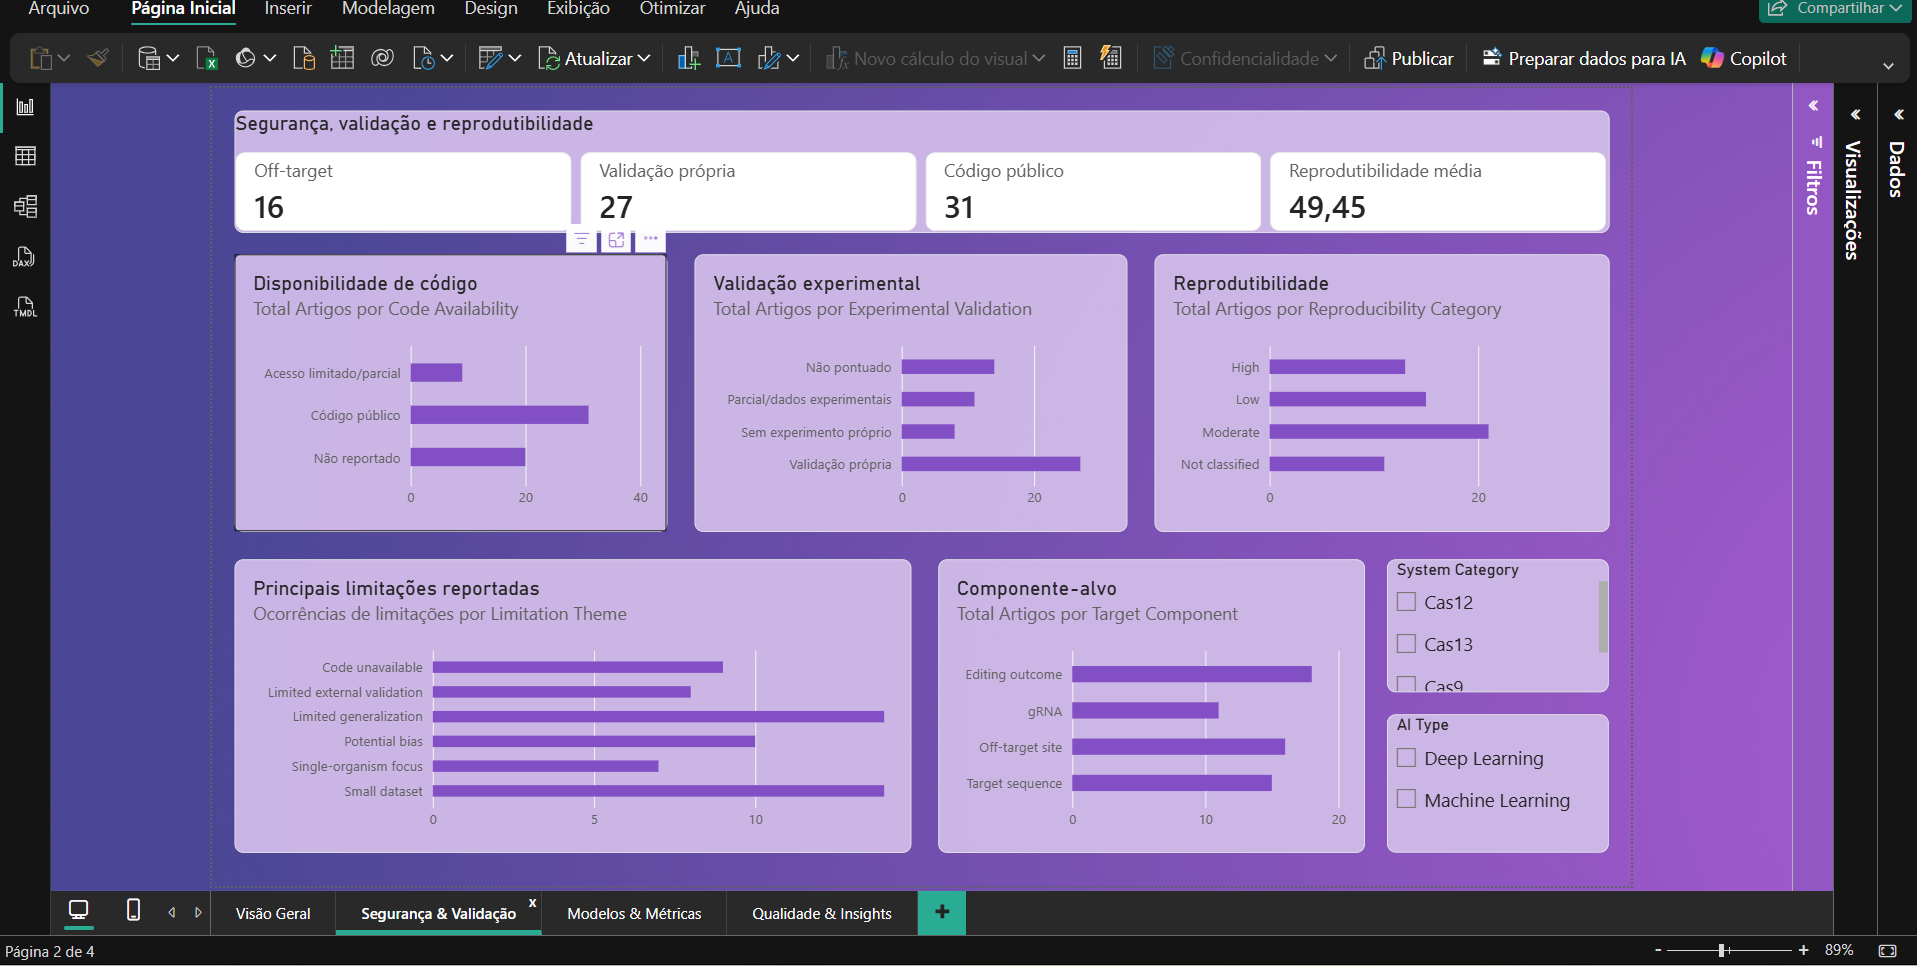

The page's visual inventory and layout, read from the dashboard file:
{"tool":"powerbi","page":{"name":"Segurança & Validação","canvas":[1280,720],"ordinal":1},"visuals":[{"type":"cardVisual","title":"Segurança, validação e reprodutibilidade","fields":{"Data":["Articles.Off-target","Articles.Validação própria","Articles.Código público","Articles.Reprodutibilidade média"]},"box":[20,20,1240,110],"z":1000},{"type":"clusteredBarChart","title":"Disponibilidade de código","fields":{"Category":["Articles.Code Availability"],"Y":["Articles.Total Artigos"]},"box":[20,150,390,250],"z":2000},{"type":"clusteredBarChart","title":"Validação experimental","fields":{"Category":["Articles.Experimental Validation"],"Y":["Articles.Total Artigos"]},"box":[435,150,390,250],"z":3000},{"type":"clusteredBarChart","title":"Reprodutibilidade","fields":{"Category":["Articles.Reproducibility Category"],"Y":["Articles.Total Artigos"]},"box":[850,150,410,250],"z":4000},{"type":"clusteredBarChart","title":"Principais limitações reportadas","fields":{"Category":["Limitations.Limitation Theme"],"Y":["Limitations.Ocorrências de limitações"]},"box":[20,425,610,265],"z":5000},{"type":"clusteredBarChart","title":"Componente-alvo","fields":{"Category":["Articles.Target Component"],"Y":["Articles.Total Artigos"]},"box":[655,425,385,265],"z":6000},{"type":"slicer","title":"Filtrar por sistema","fields":{"Values":["Articles.System Category"]},"box":[1060,425,200,120],"z":7000},{"type":"slicer","title":"Filtrar por IA","fields":{"Values":["Articles.AI Type"]},"box":[1060,565,200,125],"z":8000}]}

Visuals, with their boxes on the page's 1280x720 design canvas (x1, y1, x2, y2). These are canvas units, not pixel positions in the 1917x966 screenshot, which may show the page scaled, cropped or inside an application window:
"Segurança, validação e reprodutibilidade" cardVisual: (20,20,1260,130)
"Disponibilidade de código" clusteredBarChart: (20,150,410,400)
"Validação experimental" clusteredBarChart: (435,150,825,400)
"Reprodutibilidade" clusteredBarChart: (850,150,1260,400)
"Principais limitações reportadas" clusteredBarChart: (20,425,630,690)
"Componente-alvo" clusteredBarChart: (655,425,1040,690)
"Filtrar por sistema" slicer: (1060,425,1260,545)
"Filtrar por IA" slicer: (1060,565,1260,690)
